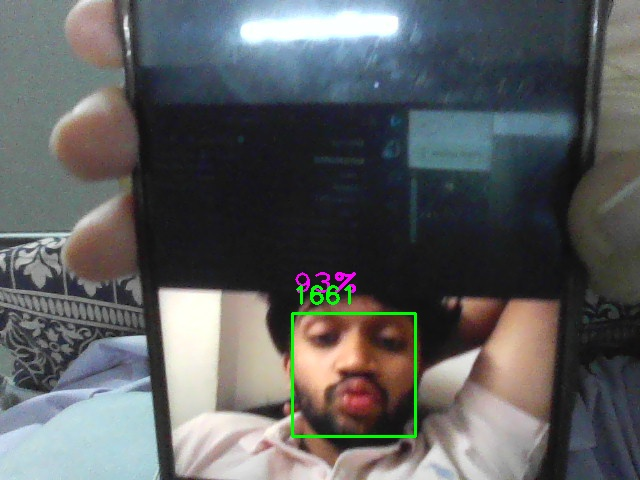fake: (292, 313, 416, 437)
